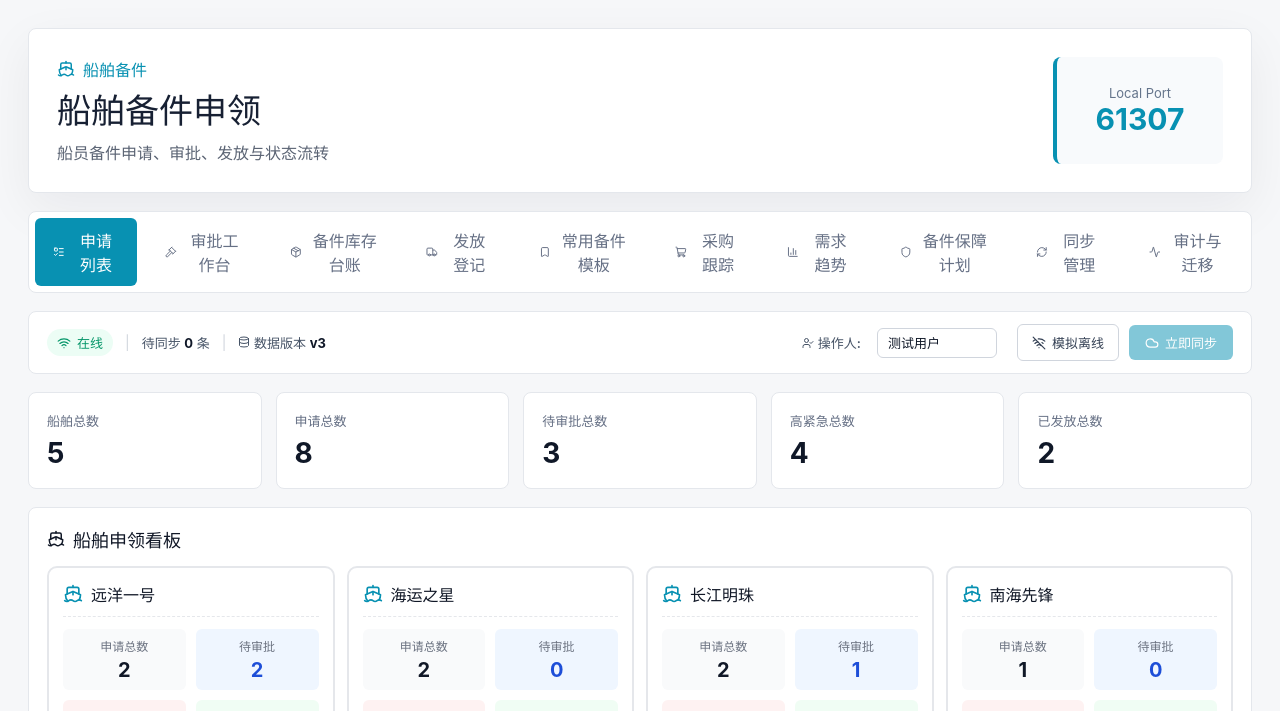
it: App 冒烟测试 › 点击备件库存台账标签应切换到库存页面
The image size is (1280, 711).
What coordinates should you click on to do the following:
click the button "备件库存台账"
I would click on:
 (335, 252)
Its box is [272, 218, 398, 286].
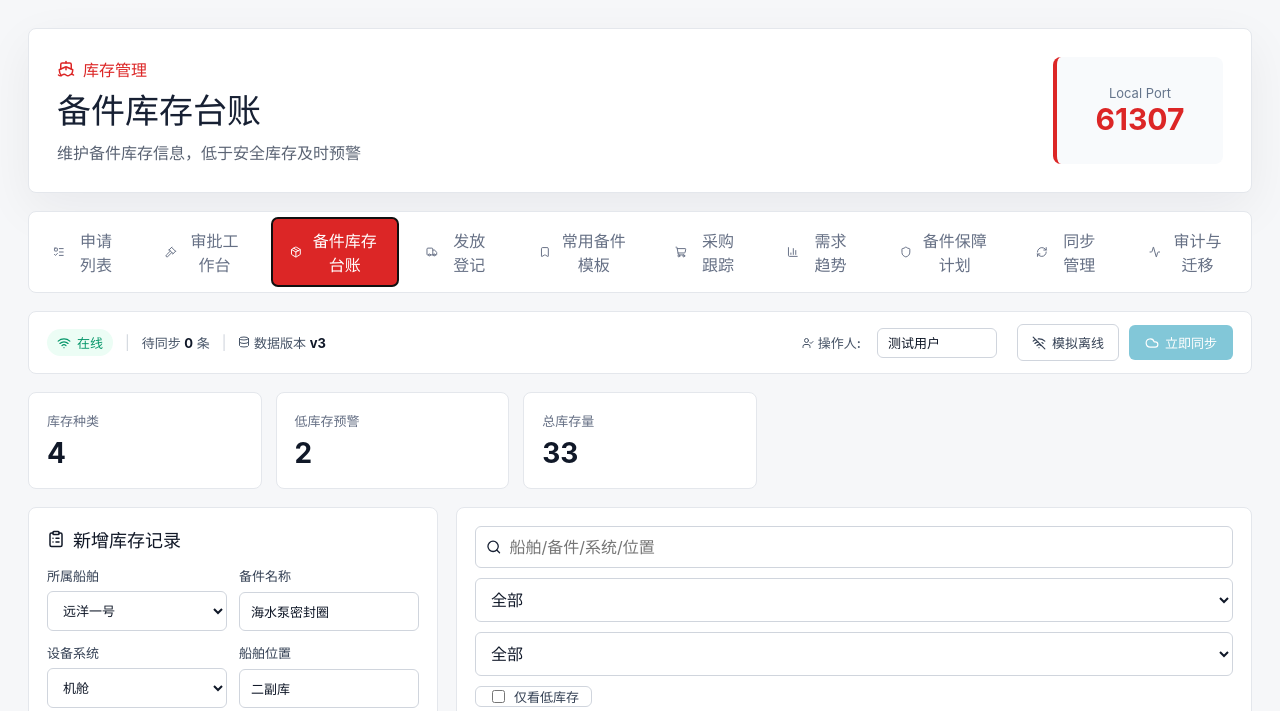
Check: the heading "备件库存台账" is shown, box [57, 90, 261, 131]
